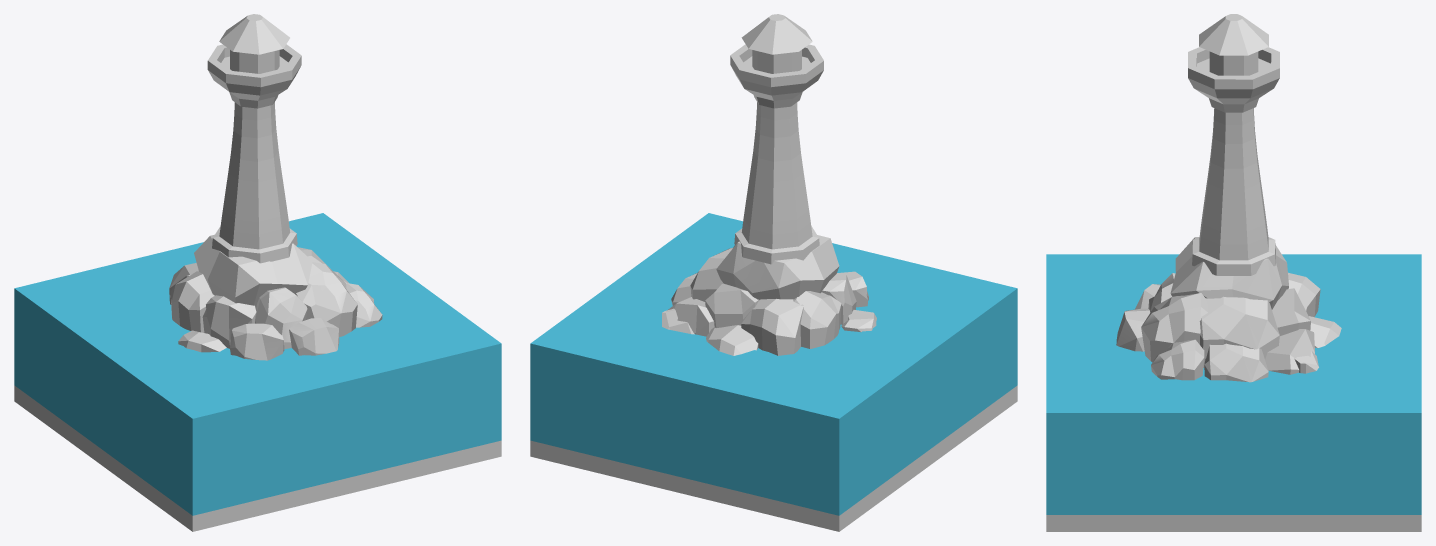
Rendered from PortLightHouse.fbx.
3 renders of one model, left to right at view 1: azimuth 30°, elevation 25°; view 2: azimuth 150°, elevation 25°; view 3: azimuth 270°, elevation 25°, orthographic. The views are drawn at different scales.
Parts seen in each view (by area): view 1: PortLighthouse; view 2: PortLighthouse; view 3: PortLighthouse.
Part boxes in pixels (x1,y1,x2,y2): PortLighthouse: (14,14,501,531); PortLighthouse: (530,14,1017,531); PortLighthouse: (1046,14,1421,531).
Size of the model in its own units: 2 by 2 by 2.55.
